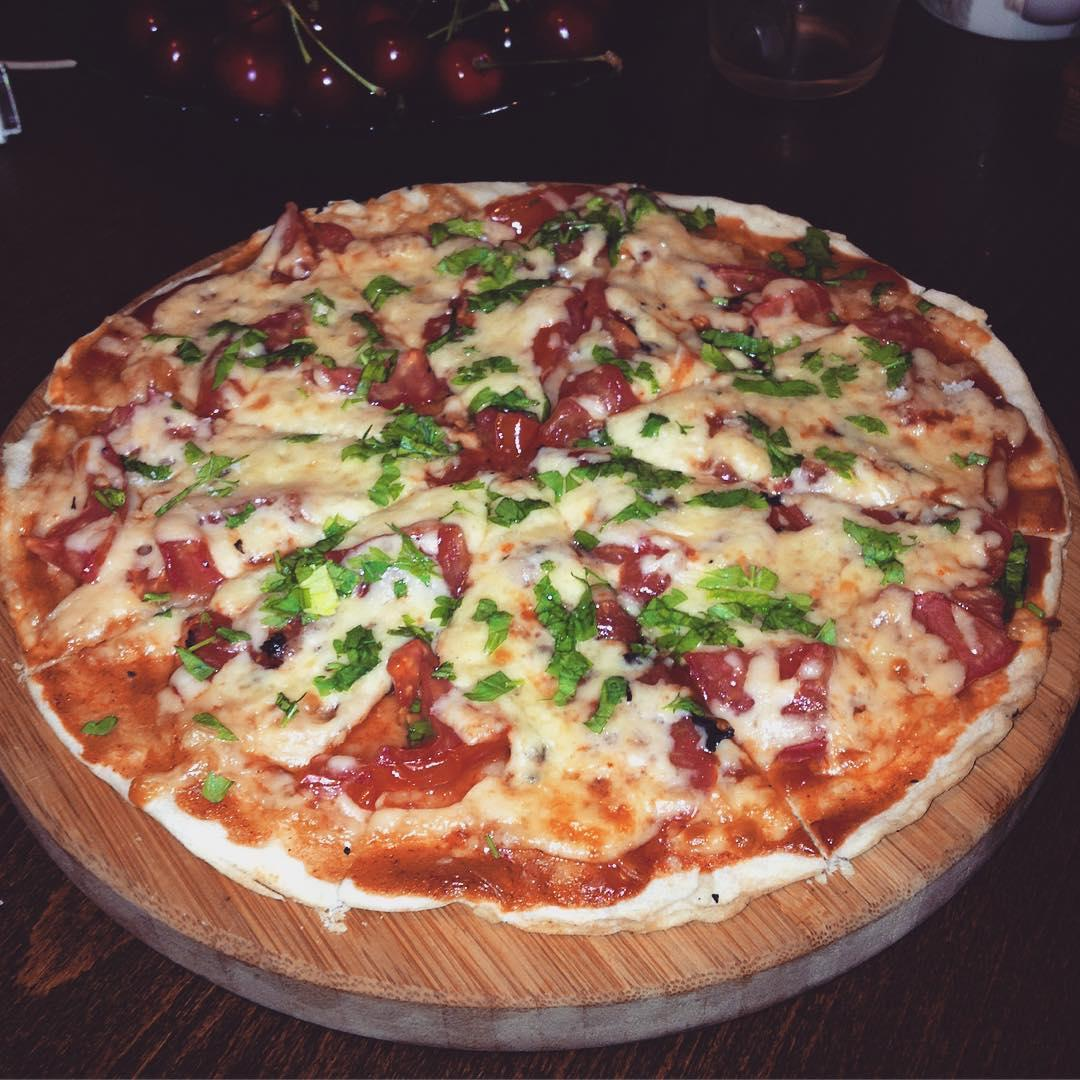Pizza: (0, 172, 1071, 935)
Tomatoes: (376, 637, 473, 793), (54, 457, 135, 581), (916, 587, 1017, 677), (363, 341, 449, 413), (487, 181, 593, 238), (148, 531, 230, 602), (672, 648, 763, 710), (560, 356, 645, 421), (475, 401, 541, 474), (283, 204, 360, 263), (425, 524, 479, 602), (584, 586, 647, 651), (175, 607, 244, 664), (538, 398, 602, 454), (249, 307, 318, 354), (526, 317, 587, 366), (571, 269, 612, 334)
